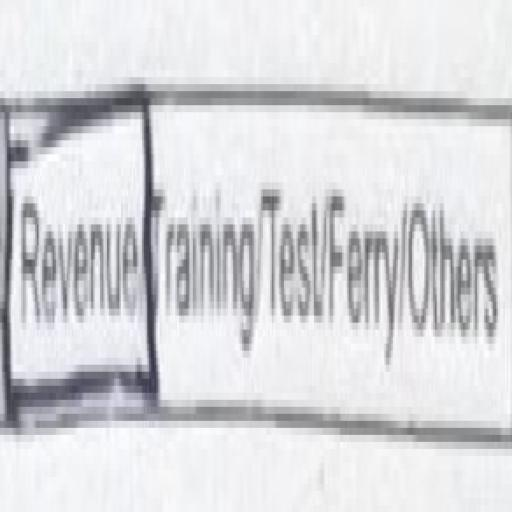check: (0, 66, 164, 450)
